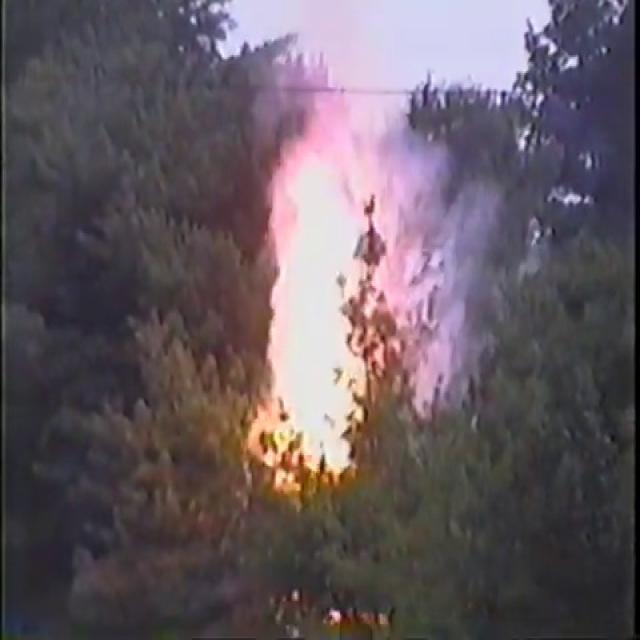Fire: (246, 381, 306, 488)
Smoke: (256, 2, 487, 470)
